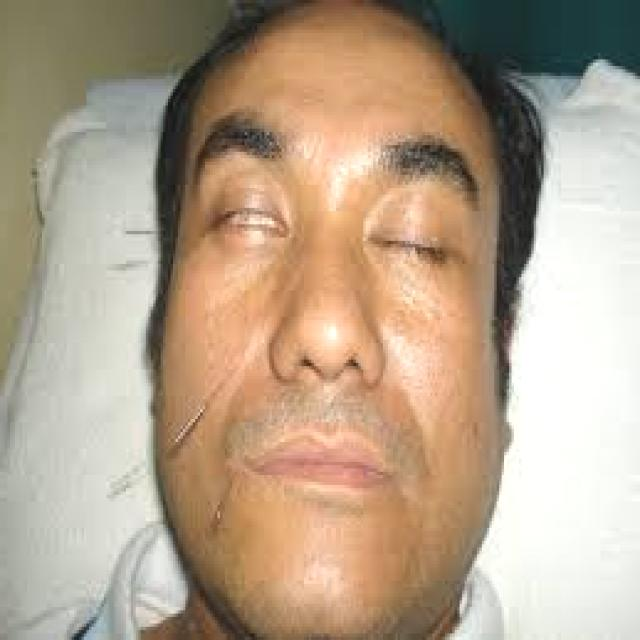stroke_face: (101, 44, 528, 636)
